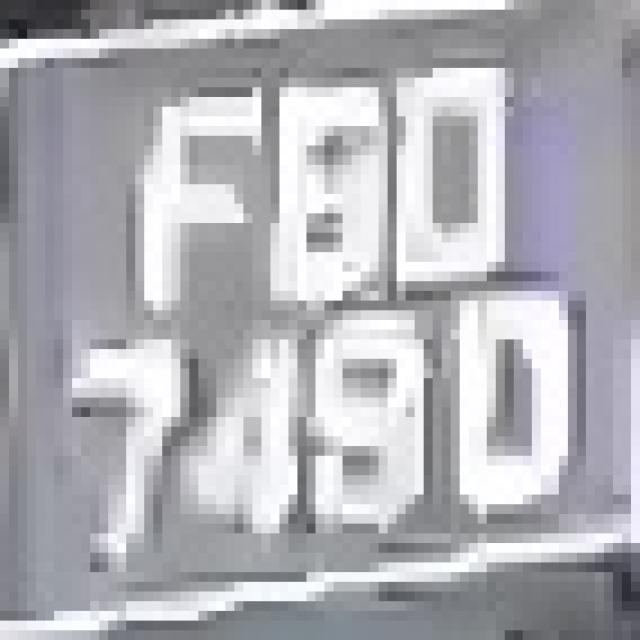4: (190, 291, 316, 572)
7: (36, 330, 189, 582)
9: (316, 291, 432, 533)
B: (253, 68, 397, 330)
D: (451, 272, 586, 524), (378, 49, 514, 281)
F: (126, 58, 252, 330)
